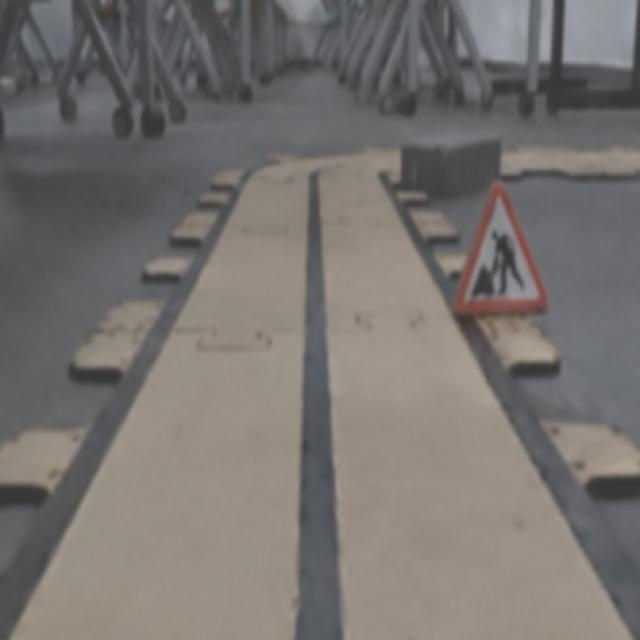WORKERS: (455, 182, 545, 312)
